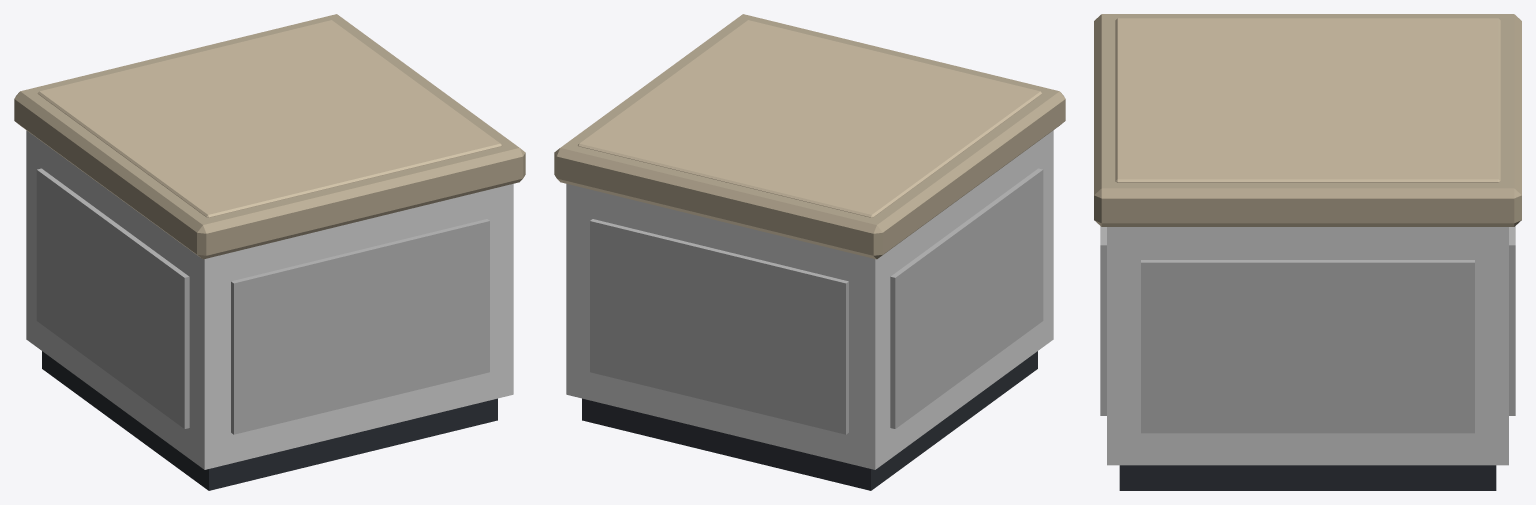
File: counter.glb
3 views of the same model, side by side, from view 1: azimuth 30°, elevation 25°; view 2: azimuth 150°, elevation 25°; view 3: azimuth 270°, elevation 25° (orthographic). The views are drawn at different scales.
Parts seen in each view (by area): view 1: cab, top; view 2: cab, top; view 3: cab, top.
Boxes of the visible parts, bbox=[...] form: cab: bbox=[26, 130, 513, 490]; top: bbox=[14, 14, 525, 259]; cab: bbox=[566, 130, 1053, 490]; top: bbox=[554, 14, 1065, 259]; cab: bbox=[1100, 226, 1515, 490]; top: bbox=[1094, 14, 1521, 226].
Size of the model in its own units: 1 by 0.806 by 1.
